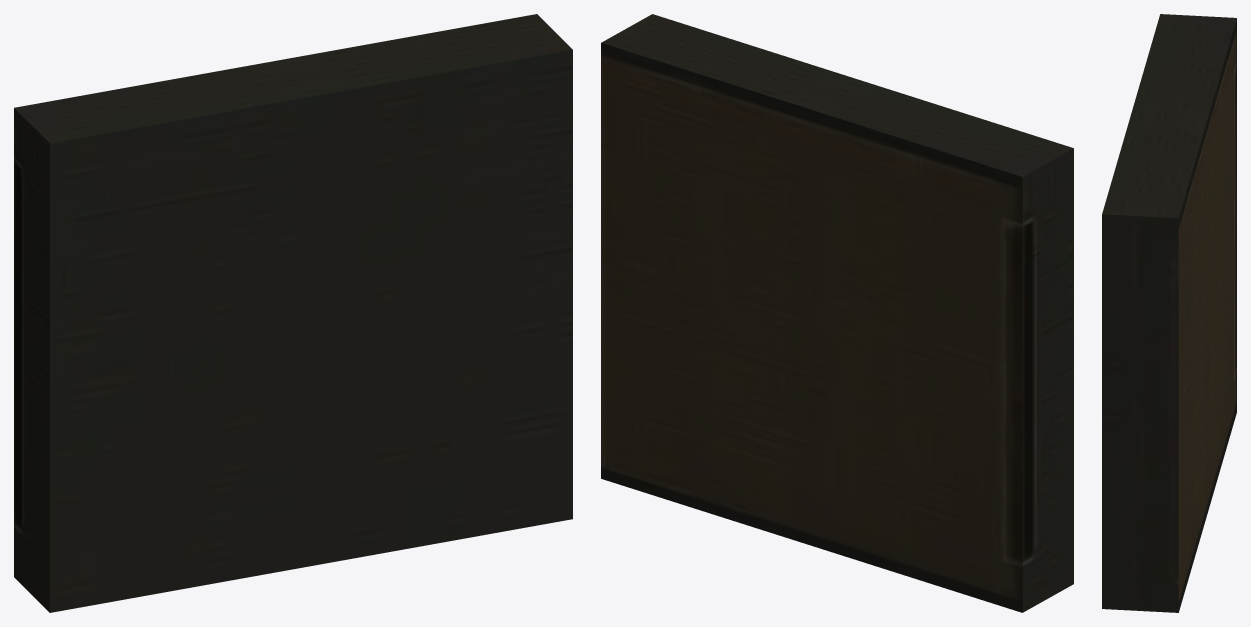
Rendered from seat__seat_pad.glb.
The picture shows the model from 3 angles, left to right: view 1: azimuth 30°, elevation 25°; view 2: azimuth 150°, elevation 25°; view 3: azimuth 270°, elevation 25°; orthographic projection. The views are drawn at different scales.
Visible parts, largest first — view 1: geometry_0; view 2: geometry_0; view 3: geometry_0.
Boxes of the visible parts, bbox=[...] form: geometry_0: bbox=[14, 14, 572, 612]; geometry_0: bbox=[601, 14, 1073, 612]; geometry_0: bbox=[1102, 14, 1236, 612].
Size of the model in its own units: 0.3442 by 0.31 by 0.096.
1 material, 1 textured.
